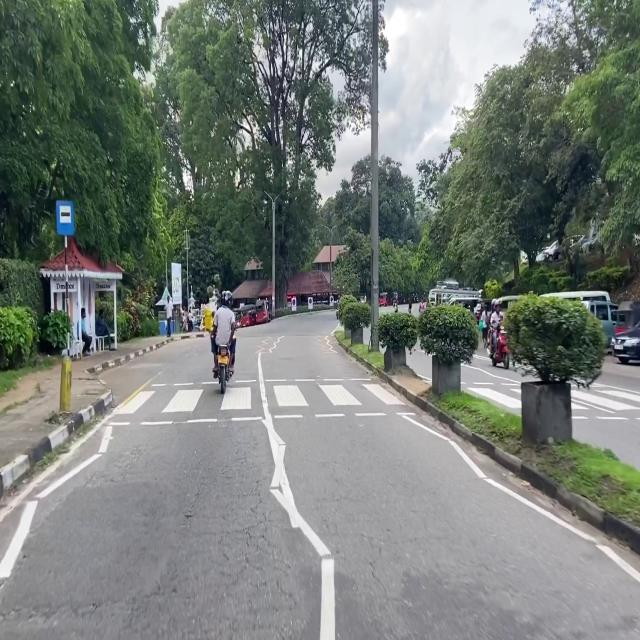car: (611, 322, 640, 364)
motorcycle: (488, 328, 509, 369), (217, 344, 230, 394), (336, 308, 339, 320)
person: (212, 290, 236, 377), (77, 308, 92, 355), (95, 311, 112, 349), (489, 299, 499, 353), (490, 302, 501, 351), (479, 305, 489, 347), (166, 295, 173, 337), (188, 309, 193, 332), (419, 300, 424, 313), (335, 296, 340, 309), (409, 297, 412, 313)
three wheeler: (615, 300, 640, 334), (474, 299, 491, 322), (240, 305, 256, 327), (256, 300, 270, 324), (379, 293, 387, 306)
van: (583, 300, 617, 347), (541, 290, 610, 302), (447, 295, 481, 312)
